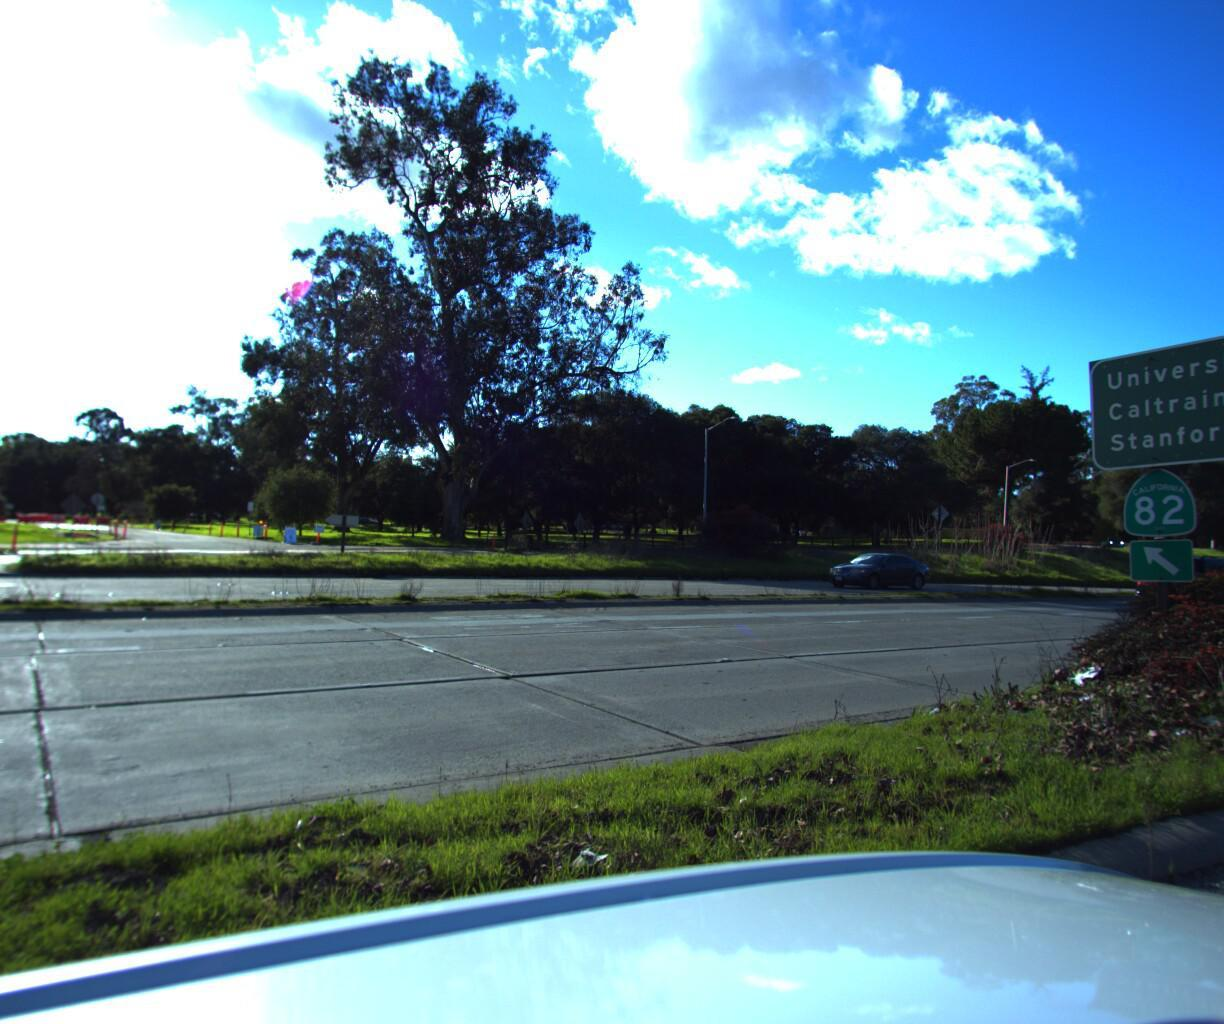car: (1123, 548, 1224, 622), (823, 548, 938, 587)
